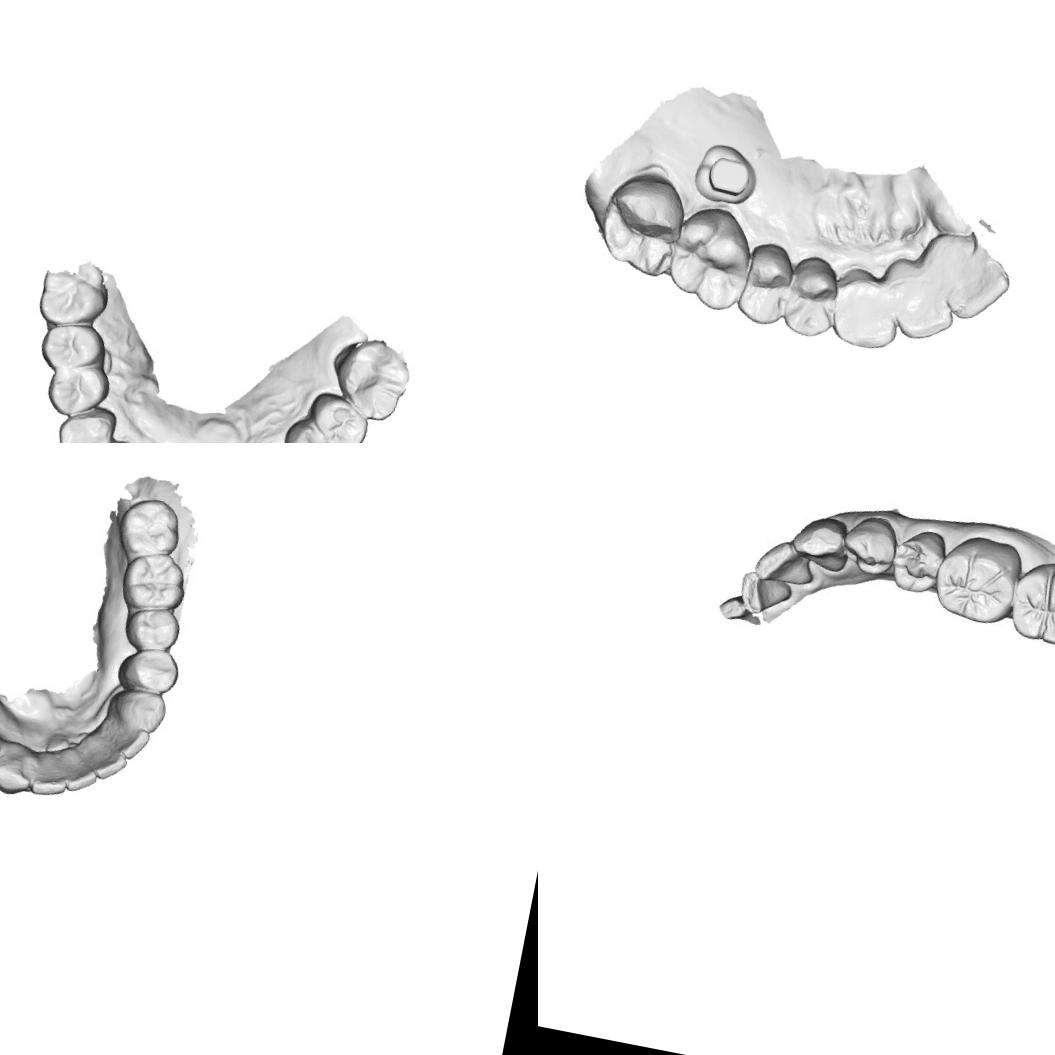canine: (828, 265, 906, 354), (791, 514, 856, 578), (106, 682, 170, 736), (0, 738, 38, 799), (50, 406, 112, 443)
incisor: (926, 243, 1014, 327), (883, 261, 964, 348), (735, 568, 802, 623), (754, 538, 820, 592), (25, 746, 74, 802), (52, 746, 102, 797), (80, 738, 132, 785), (98, 720, 152, 764)
molar: (585, 167, 693, 282), (660, 200, 758, 312), (326, 333, 416, 426), (935, 534, 1024, 626), (116, 544, 192, 620), (111, 490, 186, 566), (33, 268, 110, 332), (1008, 560, 1055, 647)
premolar: (730, 238, 798, 330), (781, 251, 842, 343), (41, 359, 114, 423), (36, 315, 110, 378), (888, 523, 948, 598), (302, 388, 375, 443), (844, 514, 900, 580), (120, 600, 184, 657), (117, 642, 182, 697), (275, 415, 346, 443)
